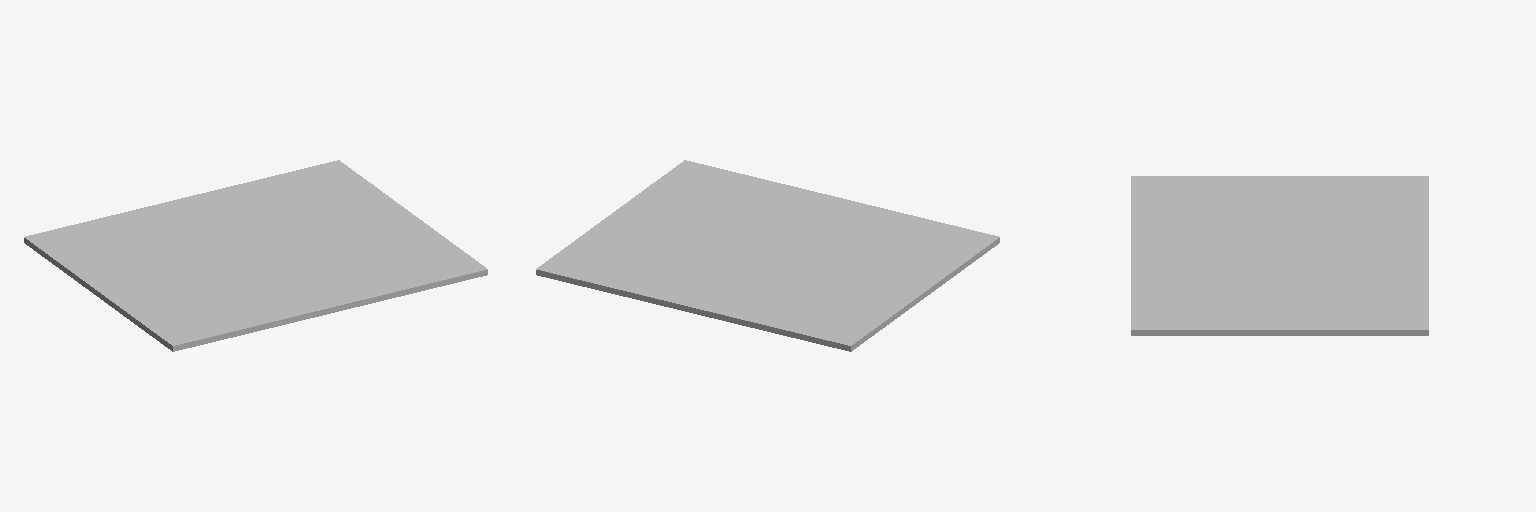
File: gorund_obj.obj
The picture shows the model from 3 angles: view 1: azimuth 30°, elevation 25°; view 2: azimuth 150°, elevation 25°; view 3: azimuth 270°, elevation 25°; orthographic projection.
Parts seen in each view (by area): view 1: Cube.010; view 2: Cube.010; view 3: Cube.010.
Boxes of the visible parts, x1=… form: Cube.010: x1=24, y1=160, x2=487, y2=351; Cube.010: x1=536, y1=160, x2=999, y2=351; Cube.010: x1=1131, y1=176, x2=1428, y2=335.
Size of the model in its own units: 61.7 by 1.08 by 50.61.